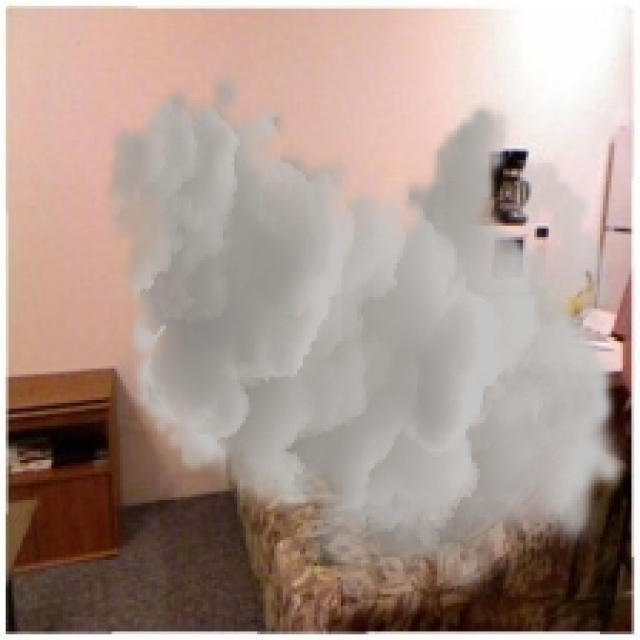Smoke: (102, 68, 628, 614)
